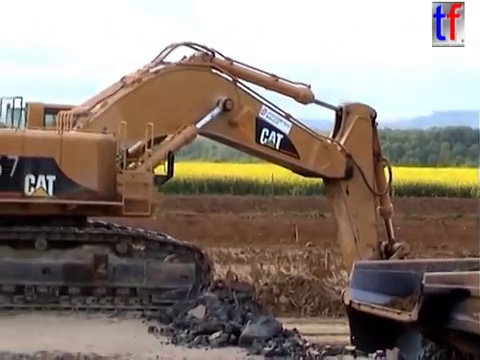excavator: (1, 38, 422, 360)
truck: (337, 253, 480, 360)
